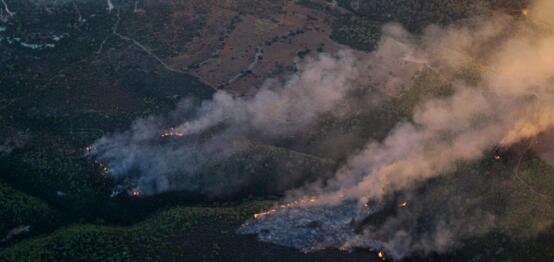yanwu: (86, 18, 550, 200), (233, 37, 553, 254)
